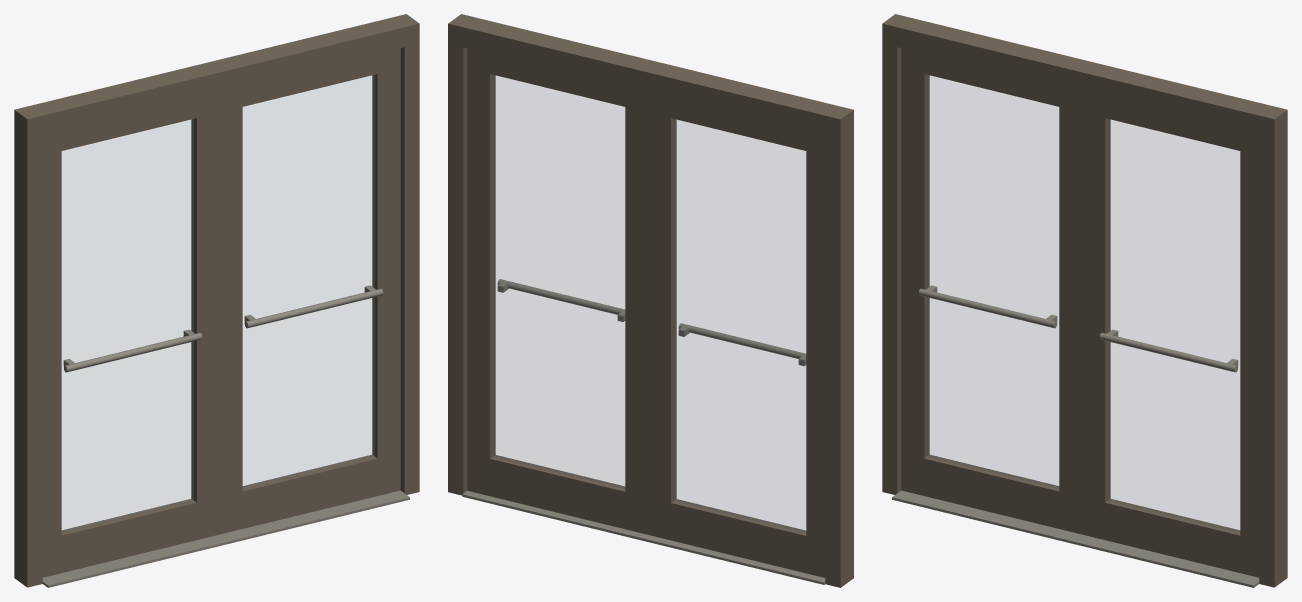
Rendered from glass_double_door.glb.
The picture shows the model from 3 angles, left to right: view 1: azimuth 30°, elevation 25°; view 2: azimuth 150°, elevation 25°; view 3: azimuth 330°, elevation 25°; orthographic projection.
Parts seen in each view (by area): view 1: glass_double_door; view 2: glass_double_door; view 3: glass_double_door.
Boxes of the visible parts, box(x1,y1,x2,y2) form: glass_double_door: box(14, 14, 419, 587); glass_double_door: box(448, 14, 853, 587); glass_double_door: box(882, 14, 1287, 587).
Bounding box in the file's own units: 2.06 × 2.35 × 0.18.
